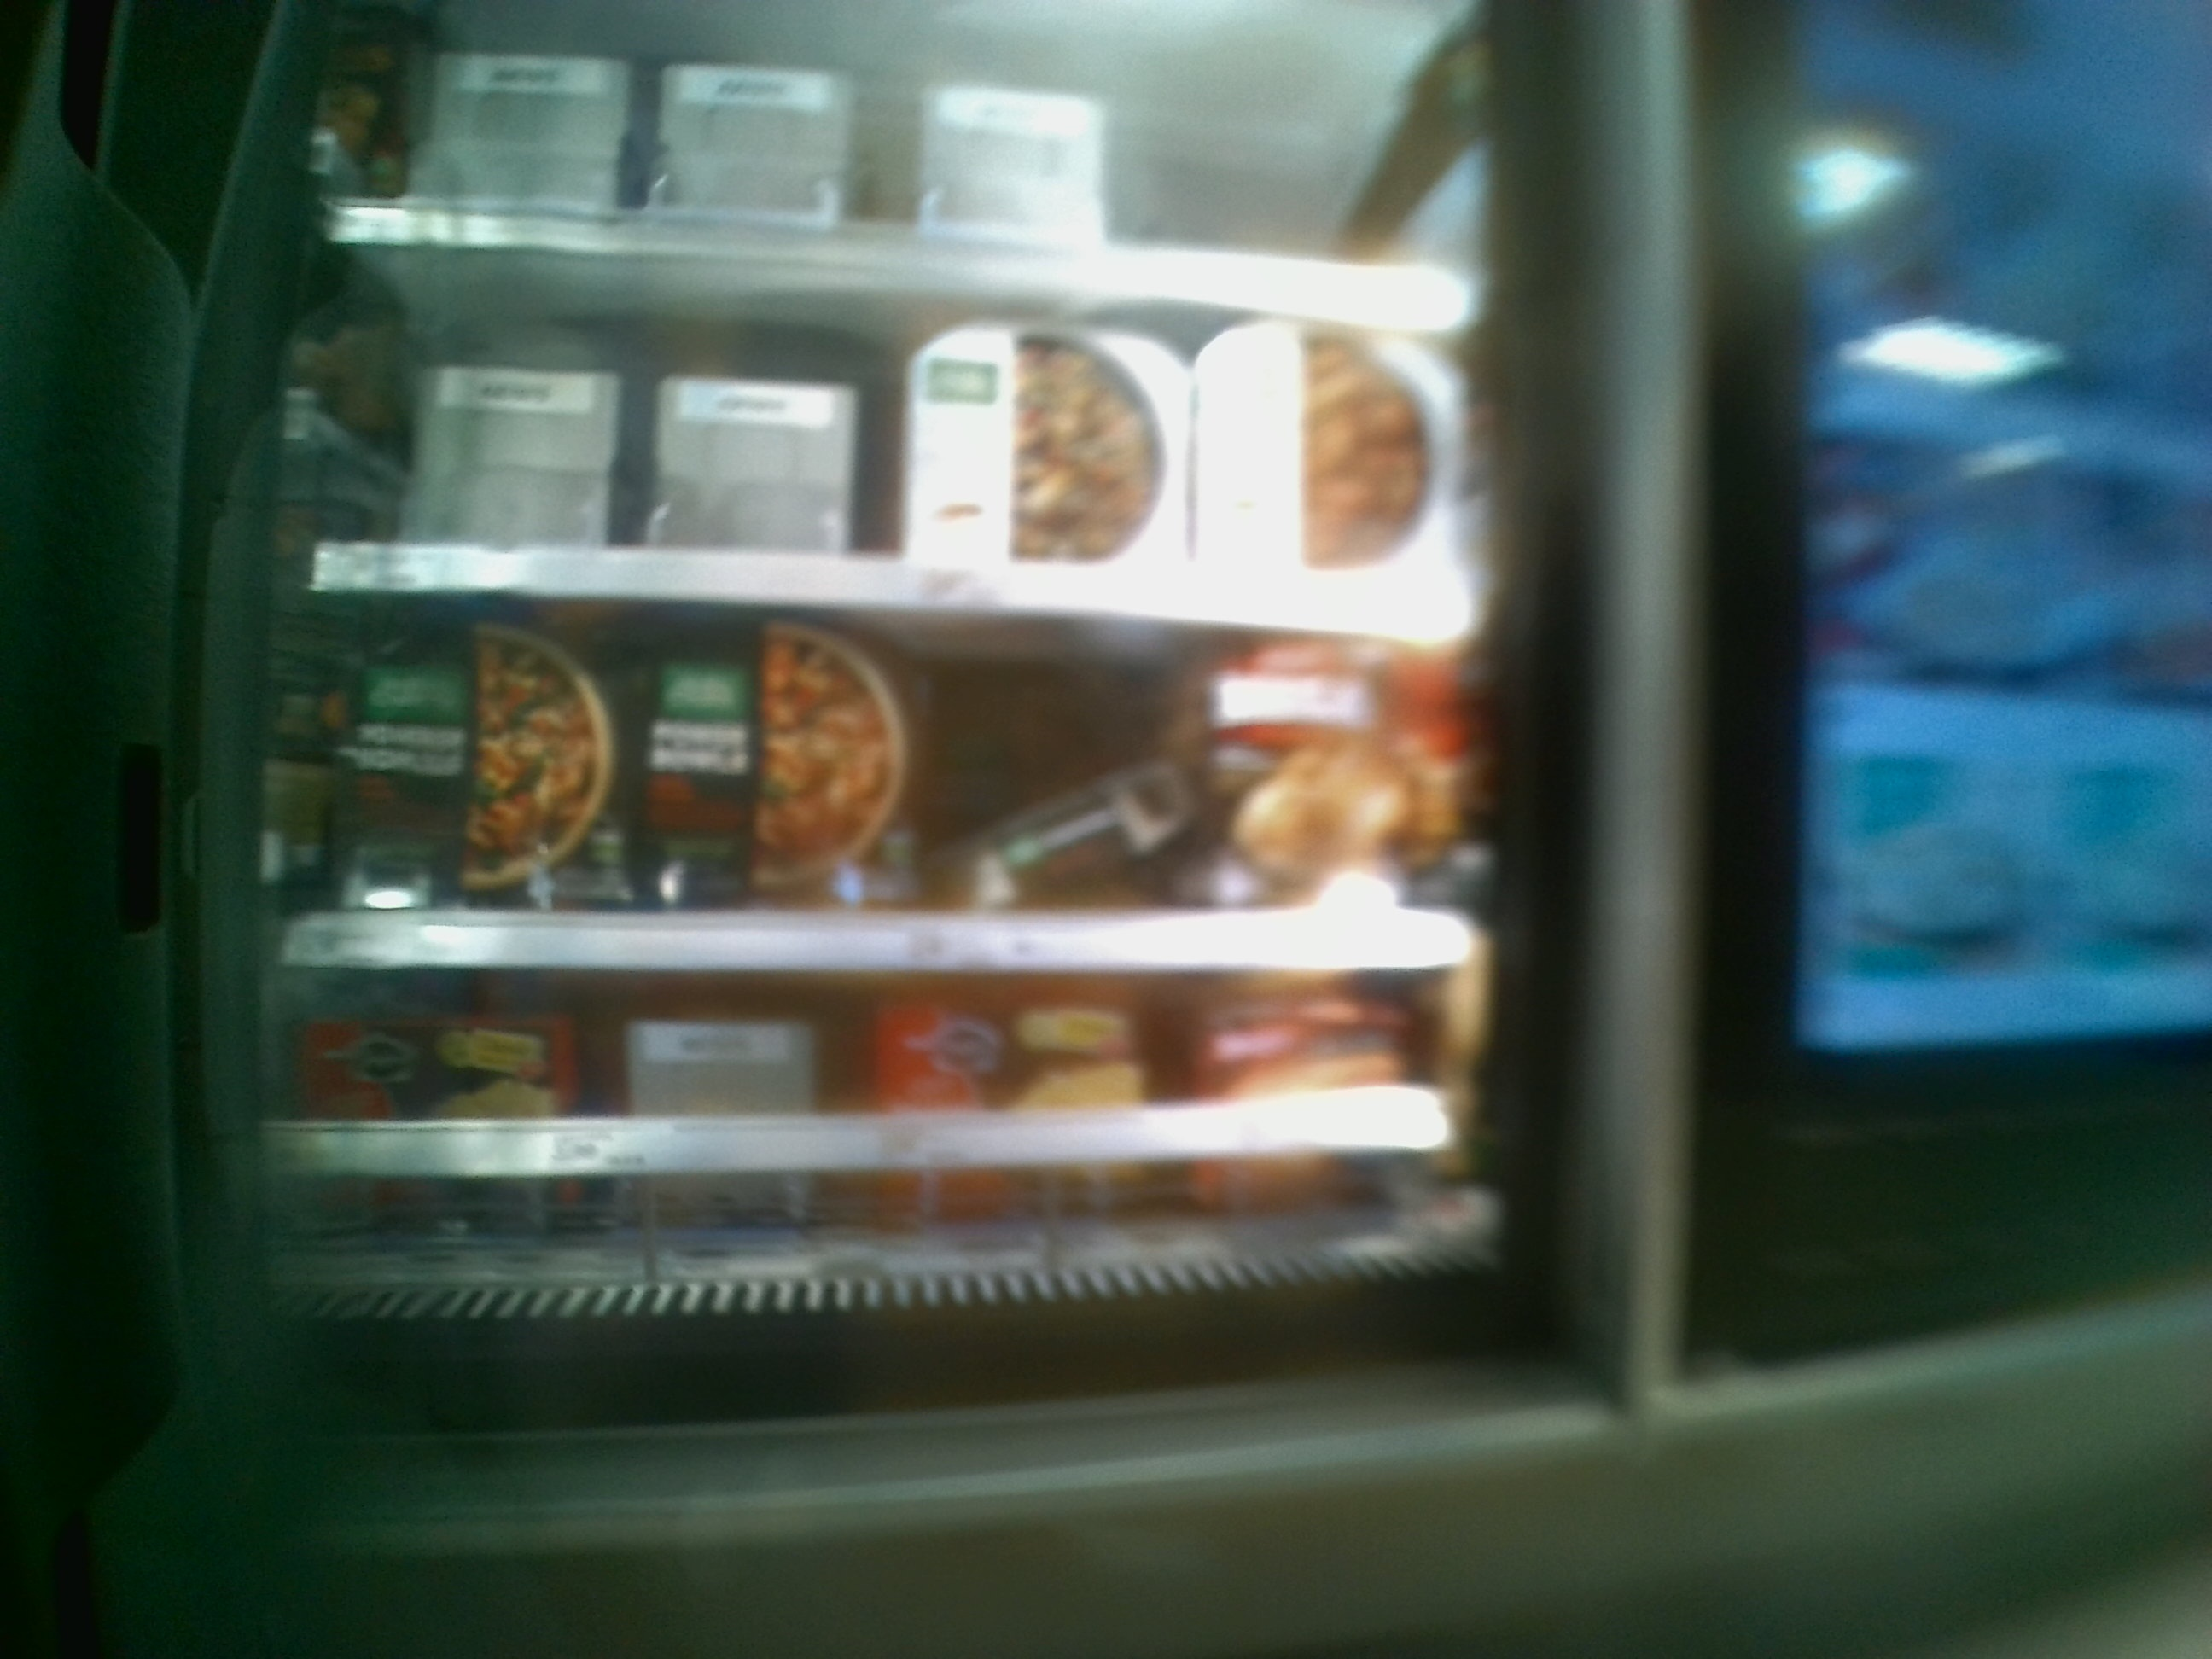Shelf: (308, 232, 1480, 636), (298, 586, 1503, 974), (273, 974, 1524, 1324)
